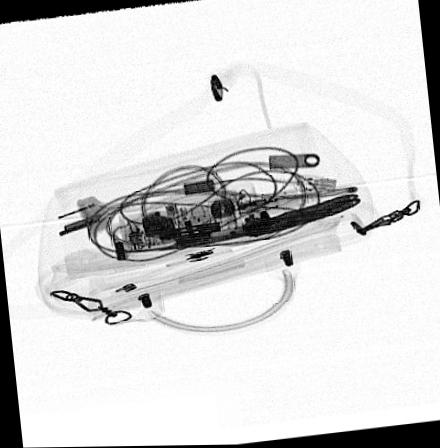Knife: (156, 192, 362, 251)
